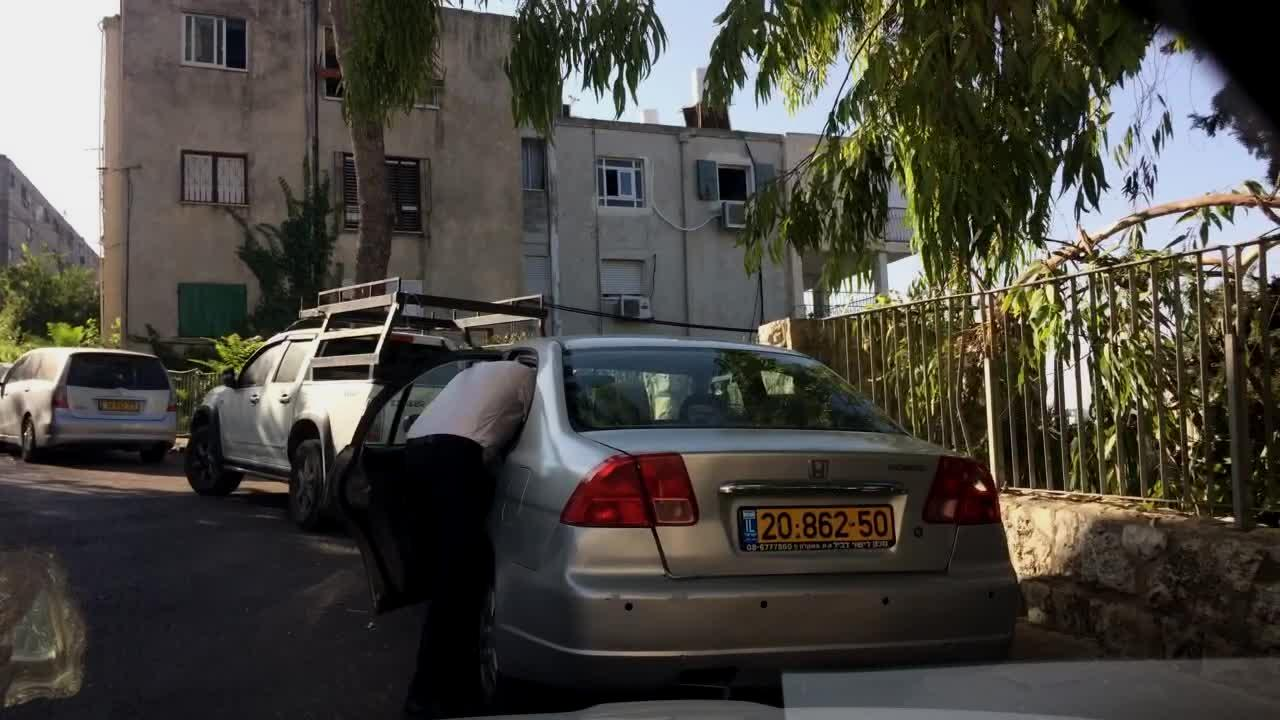Honda: (798, 447, 845, 485)
